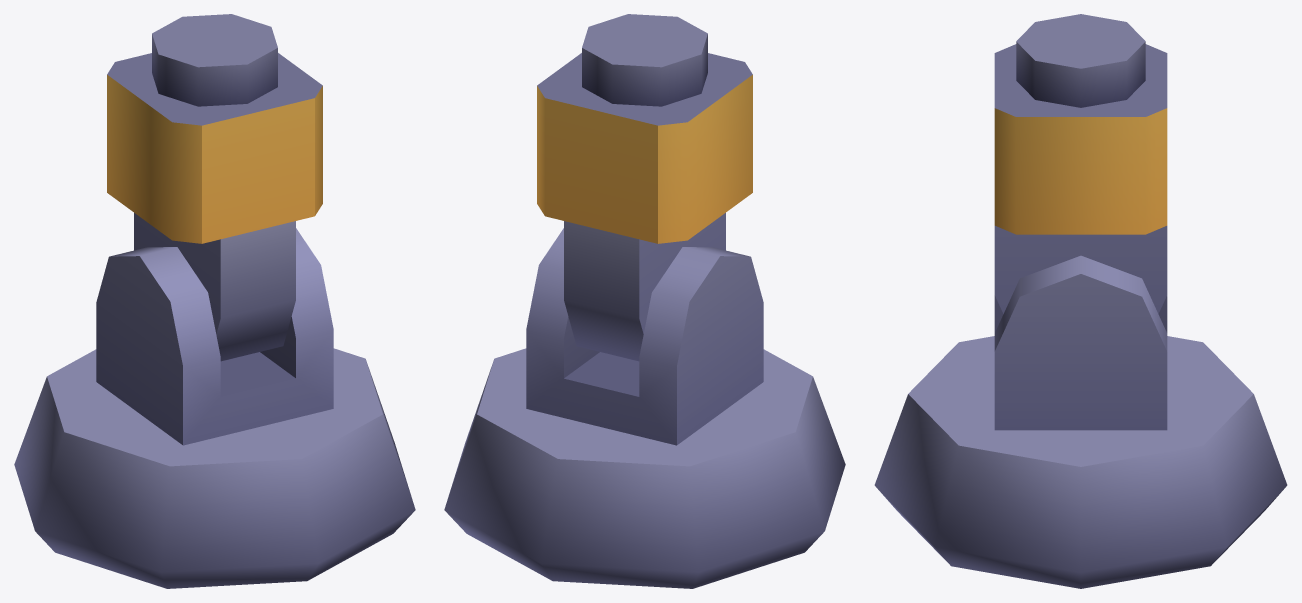
Rendered from crane-magnet.glb.
The picture shows the model from 3 angles, left to right: view 1: azimuth 30°, elevation 25°; view 2: azimuth 150°, elevation 25°; view 3: azimuth 270°, elevation 25°; orthographic projection.
Parts seen in each view (by area): view 1: crane-magnet; view 2: crane-magnet; view 3: crane-magnet.
Part boxes in pixels (x1=…): crane-magnet: x1=14, y1=14, x2=415, y2=588; crane-magnet: x1=444, y1=14, x2=845, y2=588; crane-magnet: x1=874, y1=14, x2=1287, y2=588.
Bounding box in the file's own units: 0.7167 × 0.9 × 0.7167.
